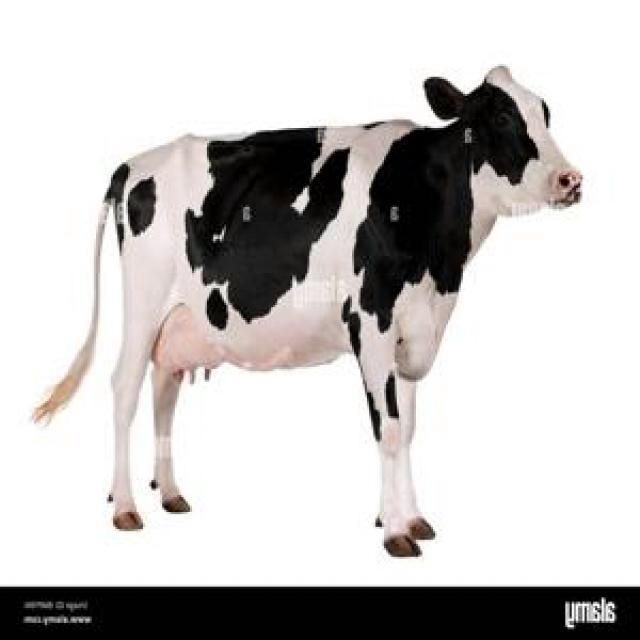cow: (38, 66, 582, 556)
